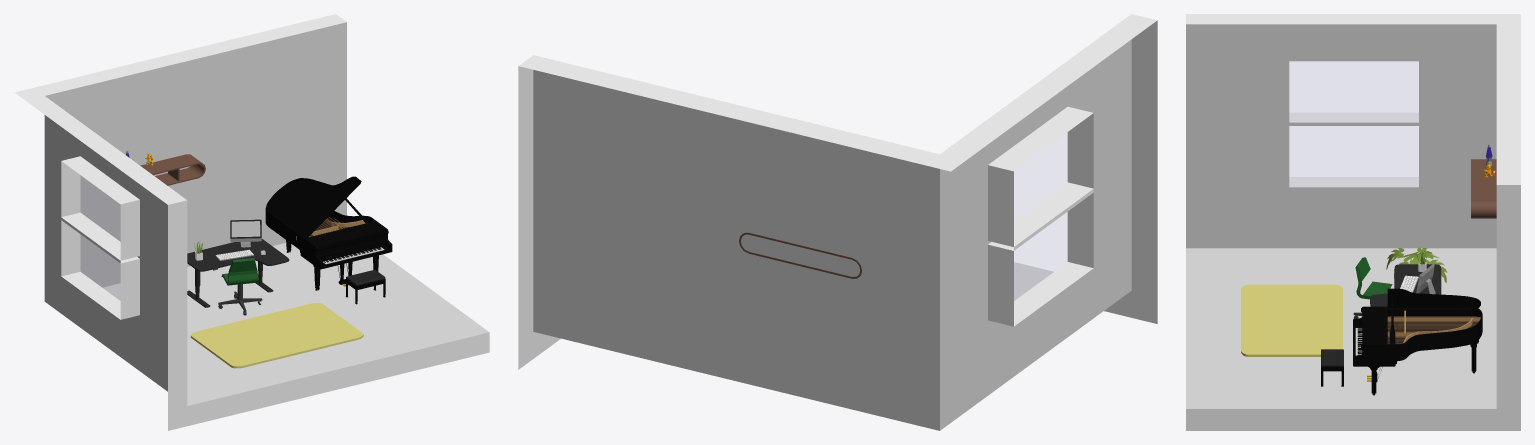
Rendered from myroom.gltf.
3 views of the same model, side by side, from view 1: azimuth 30°, elevation 25°; view 2: azimuth 150°, elevation 25°; view 3: azimuth 270°, elevation 25° (orthographic). The views are drawn at different scales.
Visible parts, largest first — view 1: Plane, WawaRug, piano_44, Cube.001_1, Desk, SM_Shelf:SM_Shelf1, Chair, iMac; view 2: Plane, SM_Shelf:SM_Shelf1; view 3: Plane, WawaRug, piano_44, Plane.042_43, Cube.001_1, SM_Shelf:SM_Shelf1, Desk, Chair, Houseplant_7, Cube.002_47, Plane.038_41, iMac.
Boxes of the visible parts, box(x1,y1,x2,y2) form: Plane: box(14, 14, 489, 430); WawaRug: box(190, 303, 363, 368); piano_44: box(265, 207, 392, 269); Cube.001_1: box(266, 176, 361, 238); Desk: box(187, 239, 289, 307); SM_Shelf:SM_Shelf1: box(140, 154, 205, 185); Chair: box(218, 258, 262, 315); iMac: box(230, 219, 261, 247); Plane: box(518, 14, 1157, 430); SM_Shelf:SM_Shelf1: box(739, 232, 862, 278); Plane: box(1186, 14, 1520, 430); WawaRug: box(1241, 284, 1342, 356); piano_44: box(1353, 306, 1482, 366); Plane.042_43: box(1387, 310, 1480, 343); Cube.001_1: box(1387, 288, 1480, 309); SM_Shelf:SM_Shelf1: box(1471, 159, 1496, 218); Desk: box(1370, 264, 1441, 306); Chair: box(1353, 257, 1392, 318); Houseplant_7: box(1386, 247, 1447, 282); Cube.002_47: box(1321, 349, 1343, 366); Plane.038_41: box(1368, 340, 1478, 395); iMac: box(1416, 262, 1435, 294).
Size of the model in its own units: 8.04 by 5.4 by 6.65.
